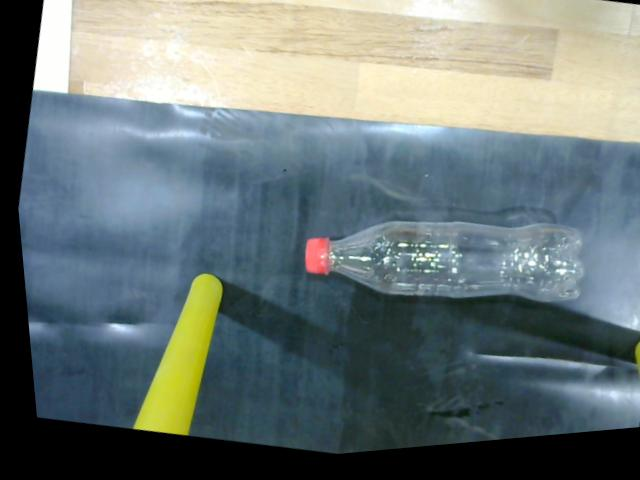bottle: (283, 214, 583, 316)
